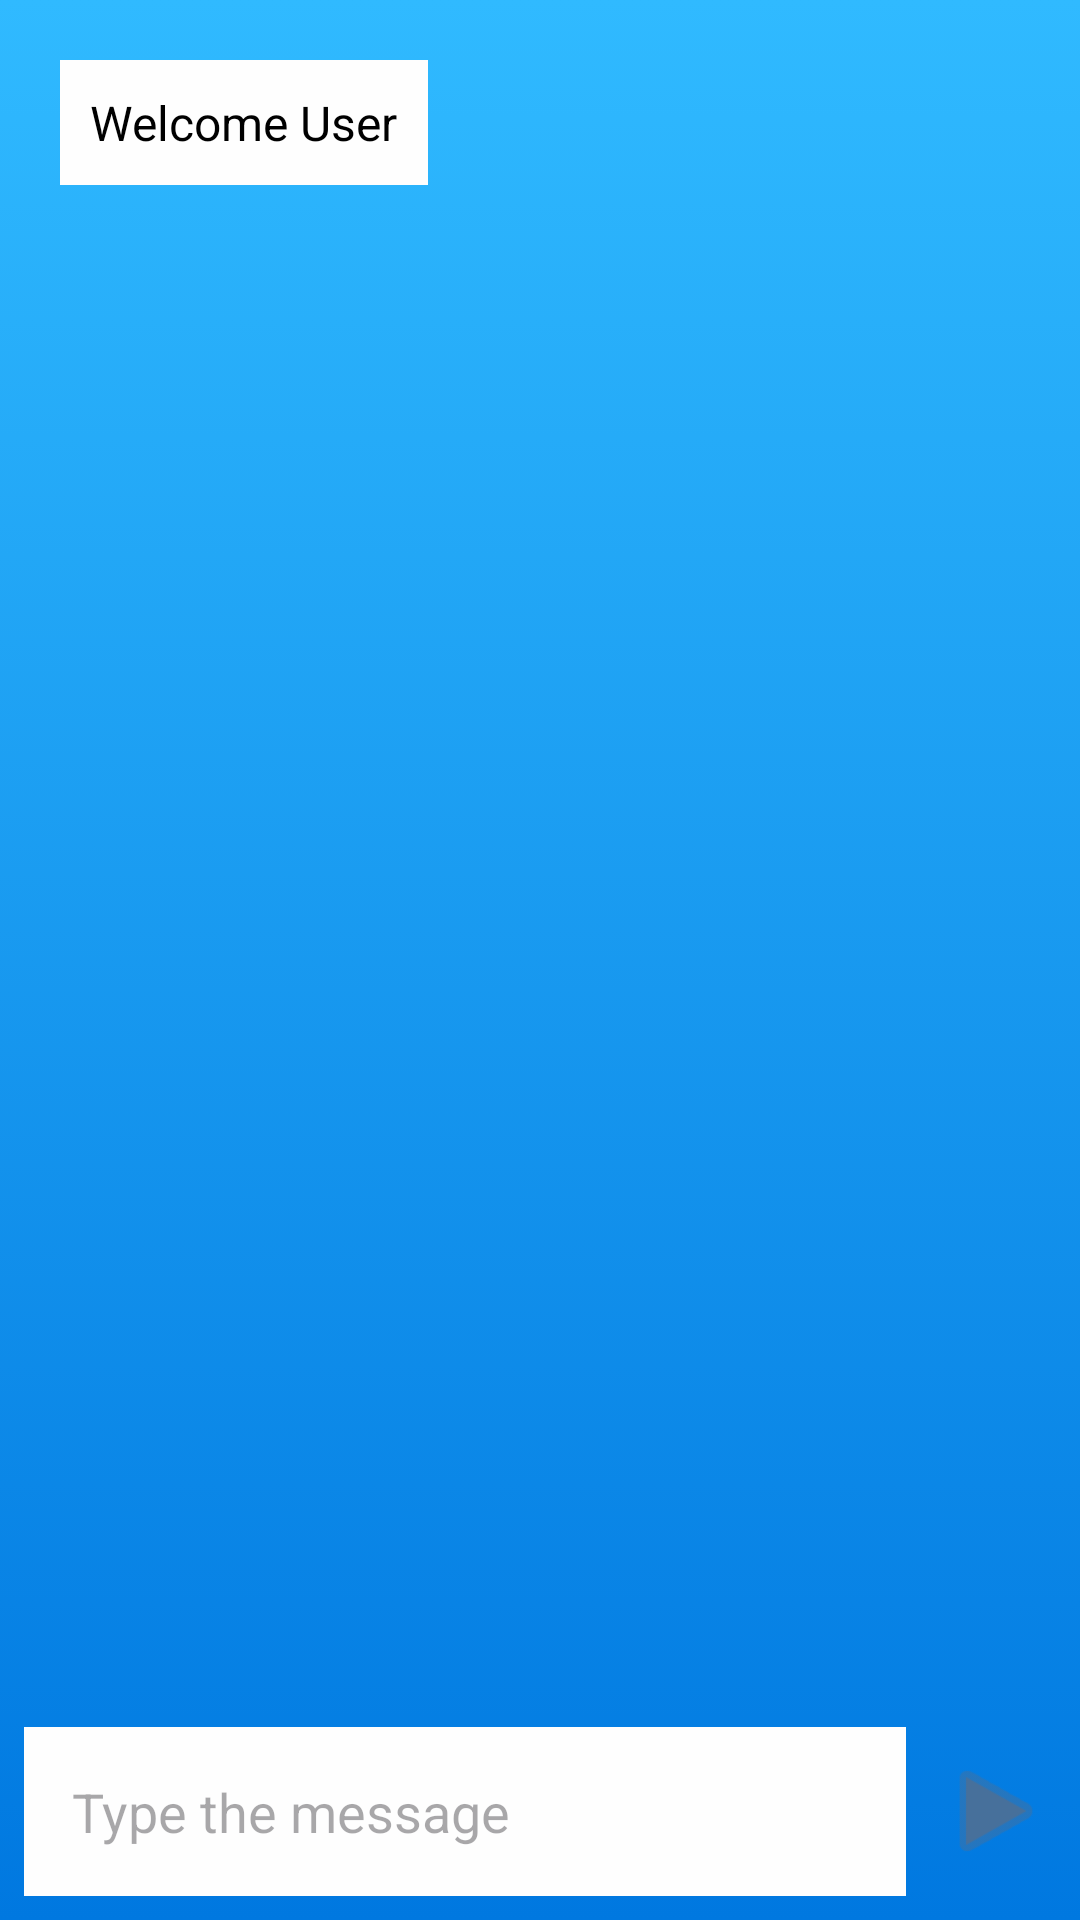

Where icons sit on this 1080*1920 app screen, as (x1, y1, x2, y2):
play: (960, 1771, 1032, 1851)
